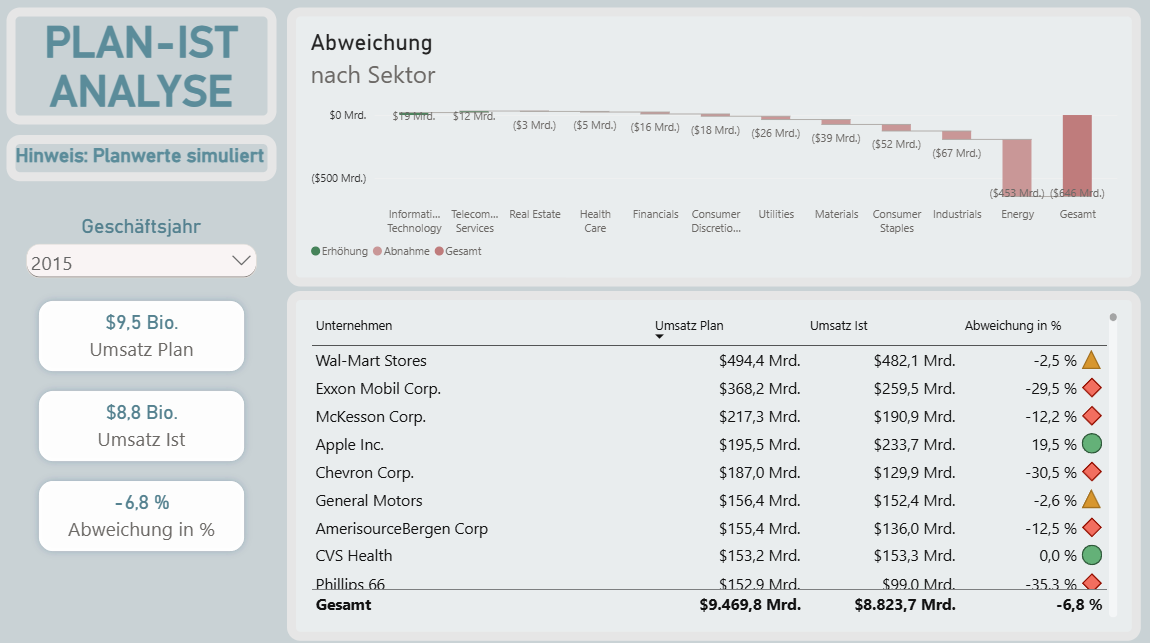

The page's visual inventory and layout, read from the dashboard file:
{"tool":"powerbi","page":{"name":"Plan-Ist","canvas":[1280,720],"ordinal":2},"visuals":[{"type":"slicer","title":"Geschäftsjahr","fields":{"Values":["plan_vs_actual.fiscal_year"]},"box":[25,238.3,266,85],"z":0},{"type":"textbox","box":[8.3,150,300,51],"z":1000},{"type":"cardVisual","fields":{"Data":["plan_vs_actual.Umsatz Ist"]},"box":[33.3,423.3,250,100],"z":2000},{"type":"cardVisual","fields":{"Data":["plan_vs_actual.Umsatz Plan"]},"box":[33.3,323.3,250,100],"z":3000},{"type":"cardVisual","fields":{"Data":["plan_vs_actual.Abweichung %"]},"box":[33.3,523.3,250,100],"z":4000},{"type":"waterfallChart","fields":{"Category":["plan_vs_actual.gics_sector"],"Y":["plan_vs_actual.Abweichung"]},"box":[320,8.3,948.3,310],"z":5000},{"type":"tableEx","fields":{"Values":["plan_vs_actual.company_name","plan_vs_actual.Umsatz Plan","plan_vs_actual.Umsatz Ist","plan_vs_actual.Abweichung %"]},"box":[320,323,948.3,388.3],"z":6000},{"type":"textbox","box":[8,8,300,130],"z":7000}]}

Visuals, with their boxes in screenshot pixels (x1, y1, x2, y2), scaled from the page's 1280x720 canvas onto the 1150x643 screenshot:
"Geschäftsjahr" slicer: (22,213,261,289)
textbox: (7,134,277,180)
cardVisual - plan_vs_actual.Umsatz Ist: (30,378,255,467)
cardVisual - plan_vs_actual.Umsatz Plan: (30,289,255,378)
cardVisual - plan_vs_actual.Abweichung %: (30,467,255,557)
waterfallChart - plan_vs_actual.gics_sector x plan_vs_actual.Abweichung: (288,7,1139,284)
tableEx - plan_vs_actual.company_name x plan_vs_actual.Umsatz Plan: (288,288,1139,635)
textbox: (7,7,277,123)
